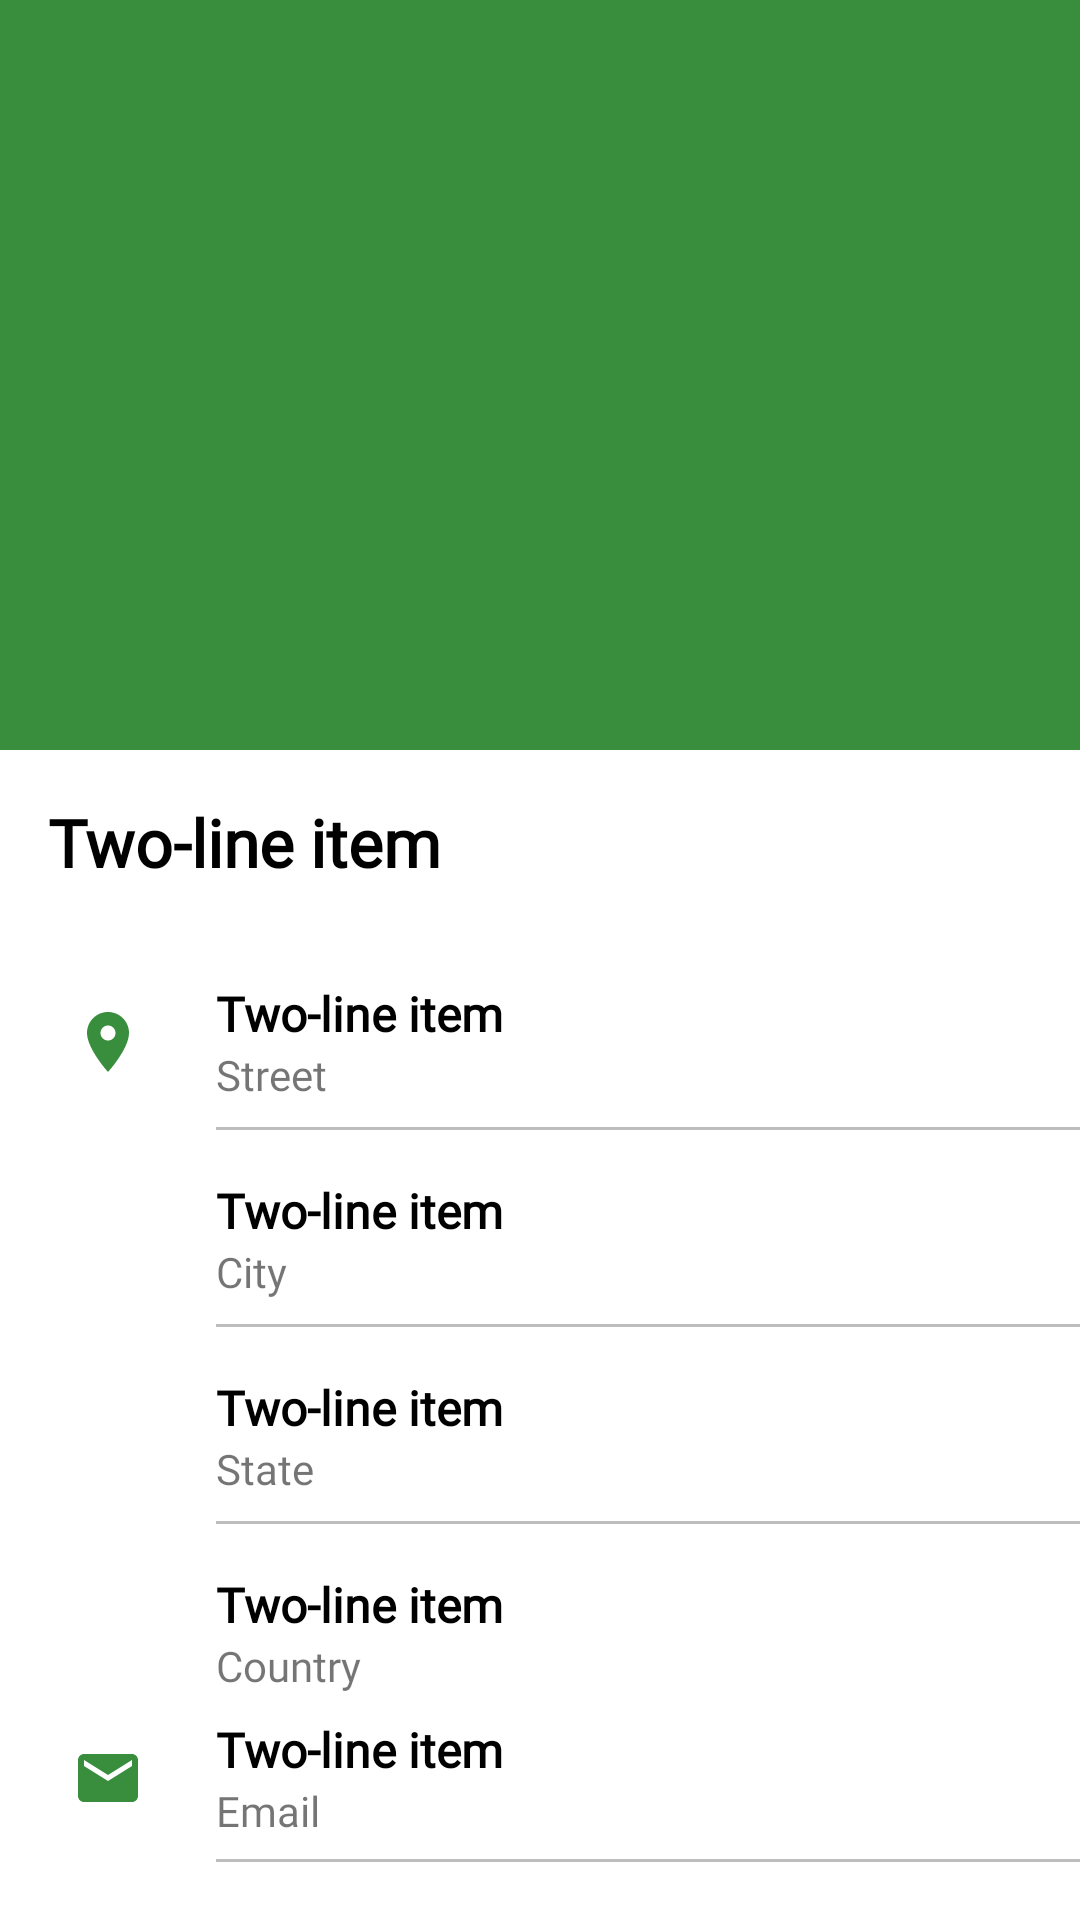

Icon click points for this 1080w x 1920h phone screenshot, format (x=x, y=y):
location on: (x=108, y=1042)
